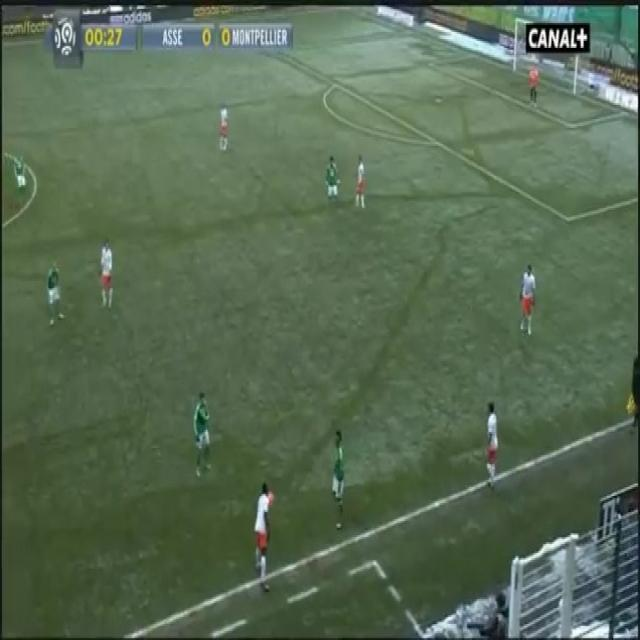goalkeeper: (522, 49, 547, 136)
player: (186, 374, 221, 502), (252, 473, 284, 601), (321, 418, 353, 531), (476, 397, 508, 502), (515, 240, 538, 362), (318, 143, 350, 221), (44, 255, 70, 339), (352, 156, 377, 235), (99, 230, 120, 309), (214, 97, 235, 175)
